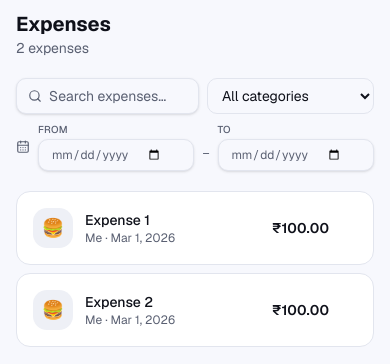
Test: ExpensesPage — full history › sends search text to the server (so it covers the whole history, not just what's loaded)
This screenshot has width=390, height=364.
Type "goa" into the field with placeholder "Search expenses…".
click(108, 96); type("goa")  # box [16,78,199,114]
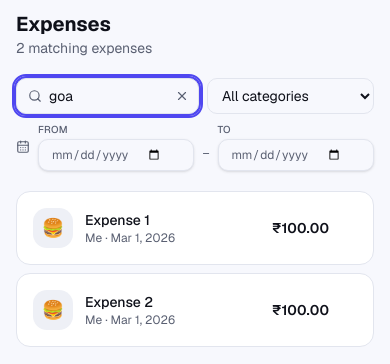
Result: the text "2 matching expenses" is shown at [16,38,152,58]
